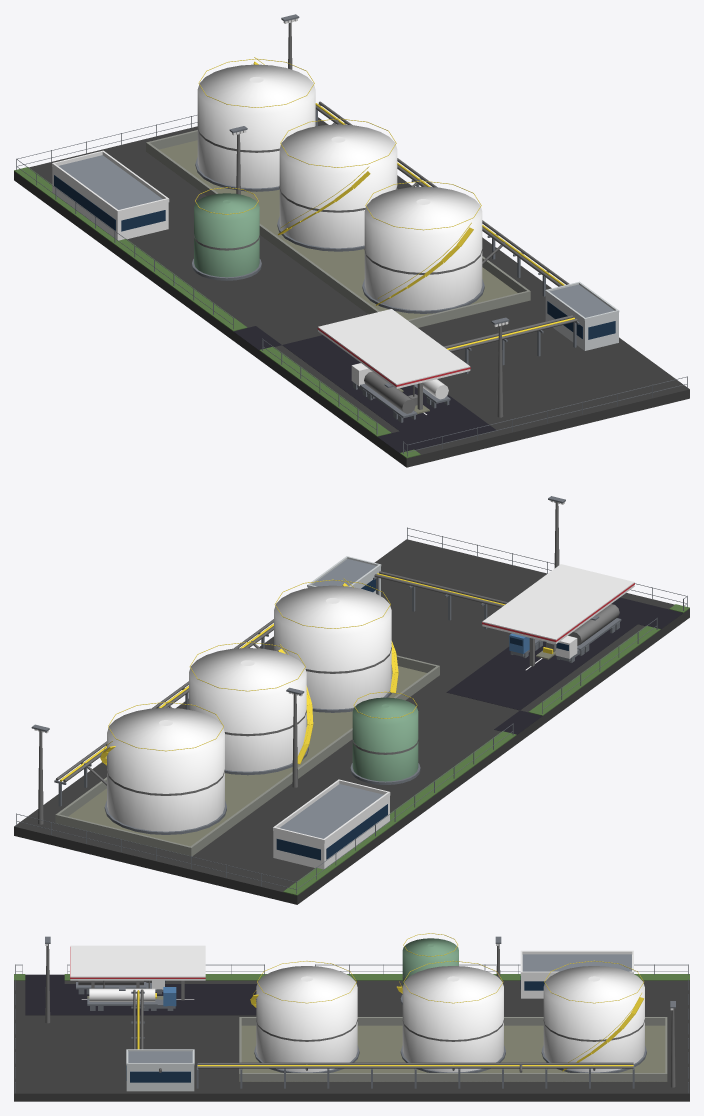
The model's file is top-prebuilt.fbx.
The picture shows the model from 3 angles, top to bottom: view 1: azimuth 30°, elevation 25°; view 2: azimuth 150°, elevation 25°; view 3: azimuth 270°, elevation 25°; orthographic projection. The views are drawn at different scales.
Parts seen in each view (by area): view 1: a1079_0_top-prebuilt; view 2: a1079_0_top-prebuilt; view 3: a1079_0_top-prebuilt.
Boxes of the visible parts, bbox=[...] form: a1079_0_top-prebuilt: bbox=[14, 14, 689, 467]; a1079_0_top-prebuilt: bbox=[14, 496, 689, 904]; a1079_0_top-prebuilt: bbox=[14, 933, 689, 1101].
Bounding box in the file's own units: 50 × 17.75 × 120.
